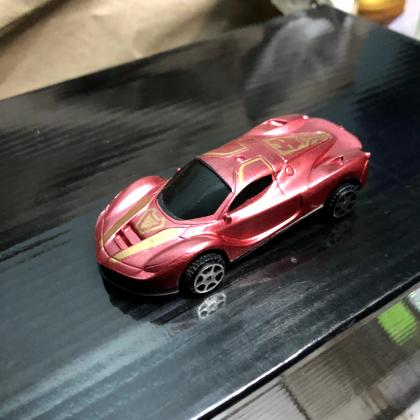Car: (94, 115, 371, 302)
